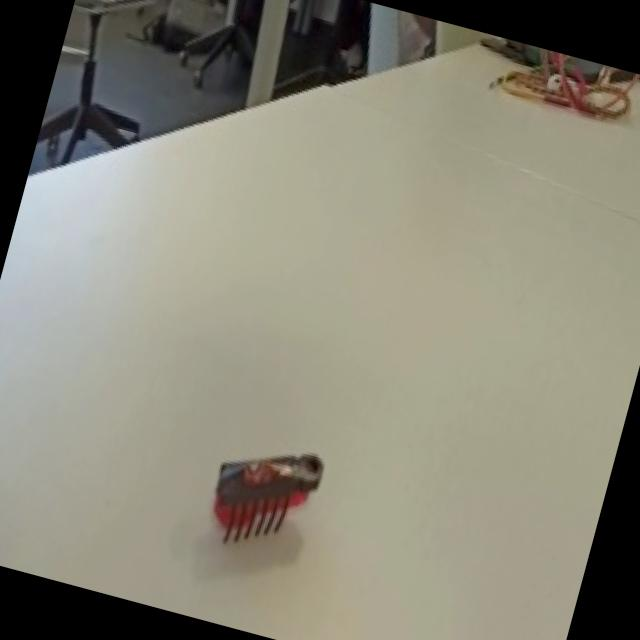2_NanoBug_Negro: (172, 402, 346, 586)
